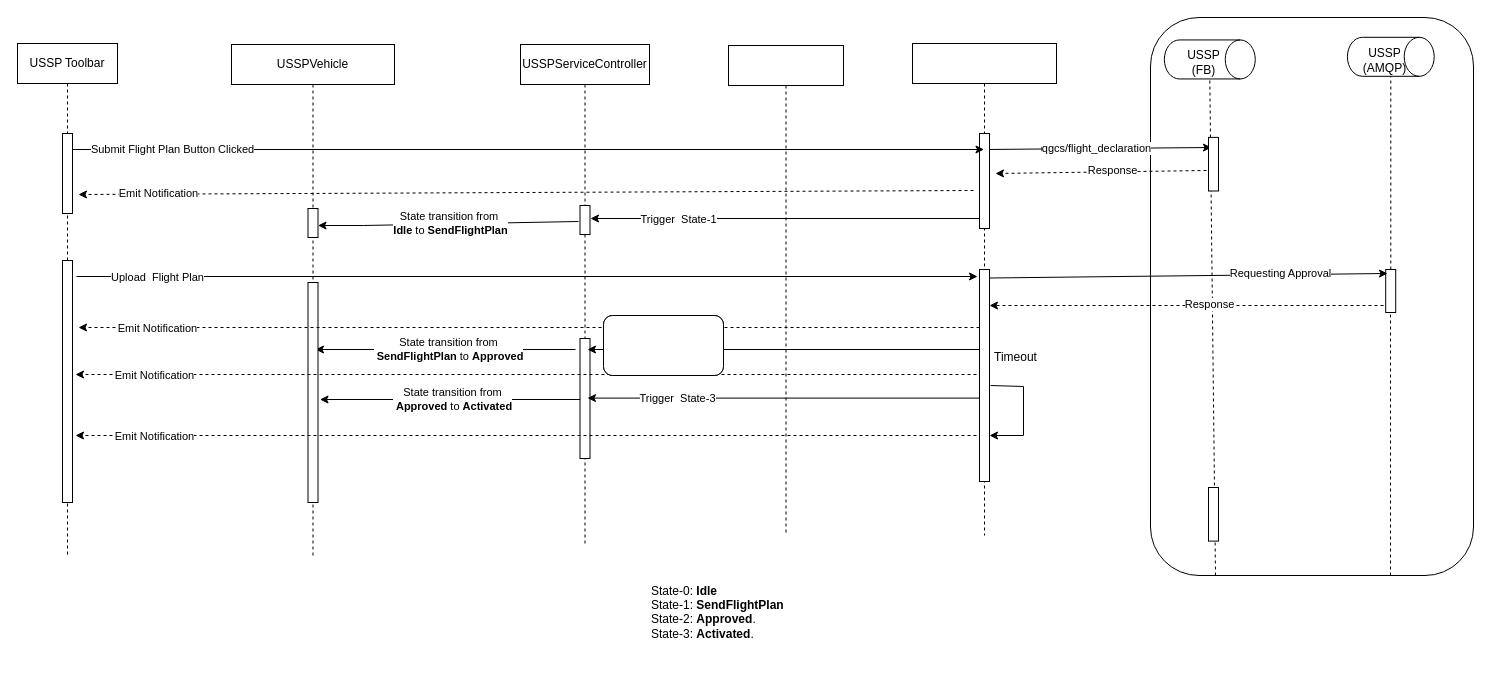
This 1491x682 diagram has some shape labels left out. The box of each missing label's shape, as (x1, y1, x2, y2) in pixels:
USSPFlightAuthorization: (912, 42, 1056, 536)
USSPPlanController: (728, 44, 844, 536)
